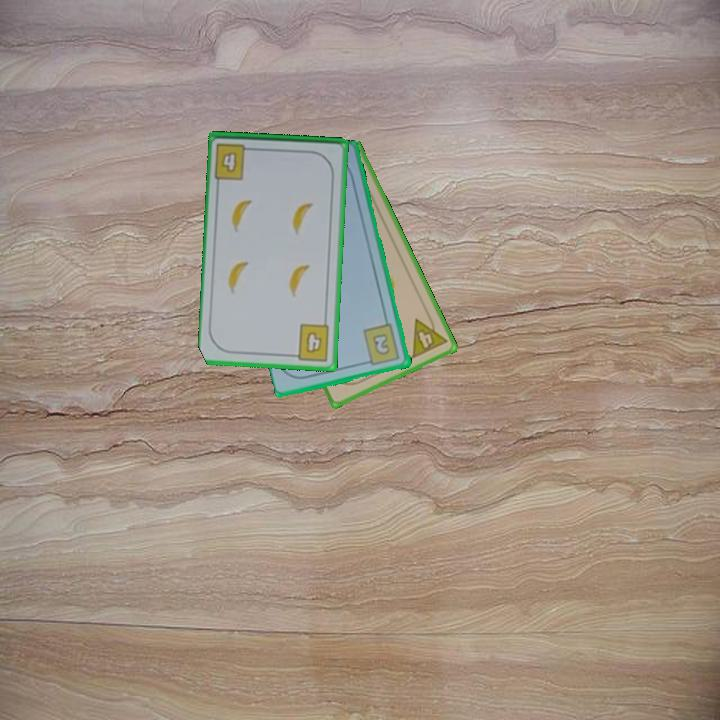2b: (360, 321, 403, 368)
4b: (288, 320, 332, 364), (211, 140, 257, 182)
4p: (408, 310, 450, 361)
